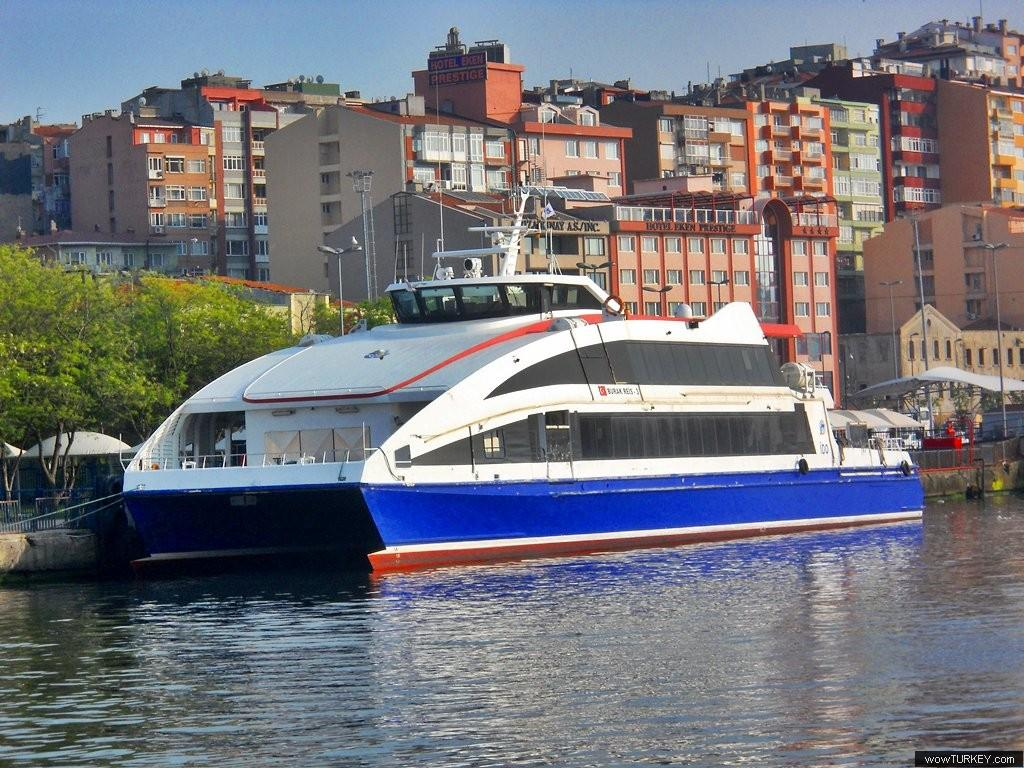PassengerShip: (101, 174, 953, 570)
